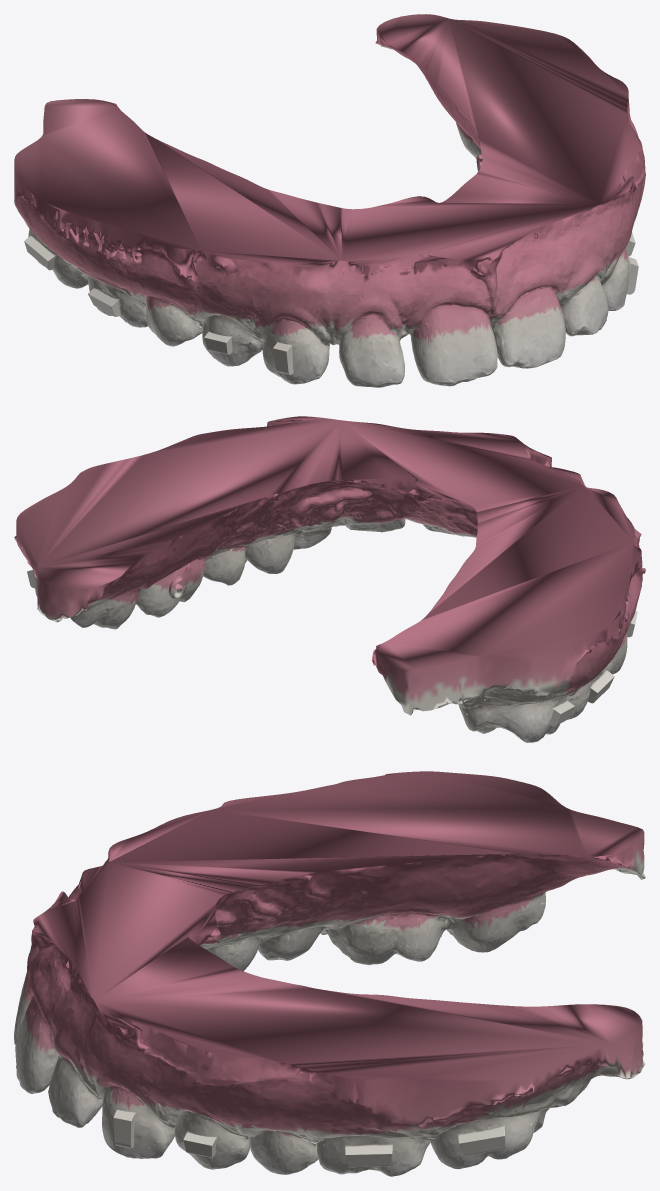
File: Niya Priority Upper jaw - 06 - Model.glb
3 renders of one model, top to bottom at view 1: azimuth 30°, elevation 25°; view 2: azimuth 150°, elevation 25°; view 3: azimuth 270°, elevation 25°, orthographic. The views are drawn at different scales.
Visible parts, largest first — view 1: Niya Priority Upper jaw - 06 - Model; view 2: Niya Priority Upper jaw - 06 - Model; view 3: Niya Priority Upper jaw - 06 - Model.
Part boxes in pixels (x1,y1,x2,y2): Niya Priority Upper jaw - 06 - Model: (14, 14, 645, 387); Niya Priority Upper jaw - 06 - Model: (14, 416, 645, 742); Niya Priority Upper jaw - 06 - Model: (14, 771, 645, 1176).
Size of the model in its own units: 66.35 by 13.71 by 57.
